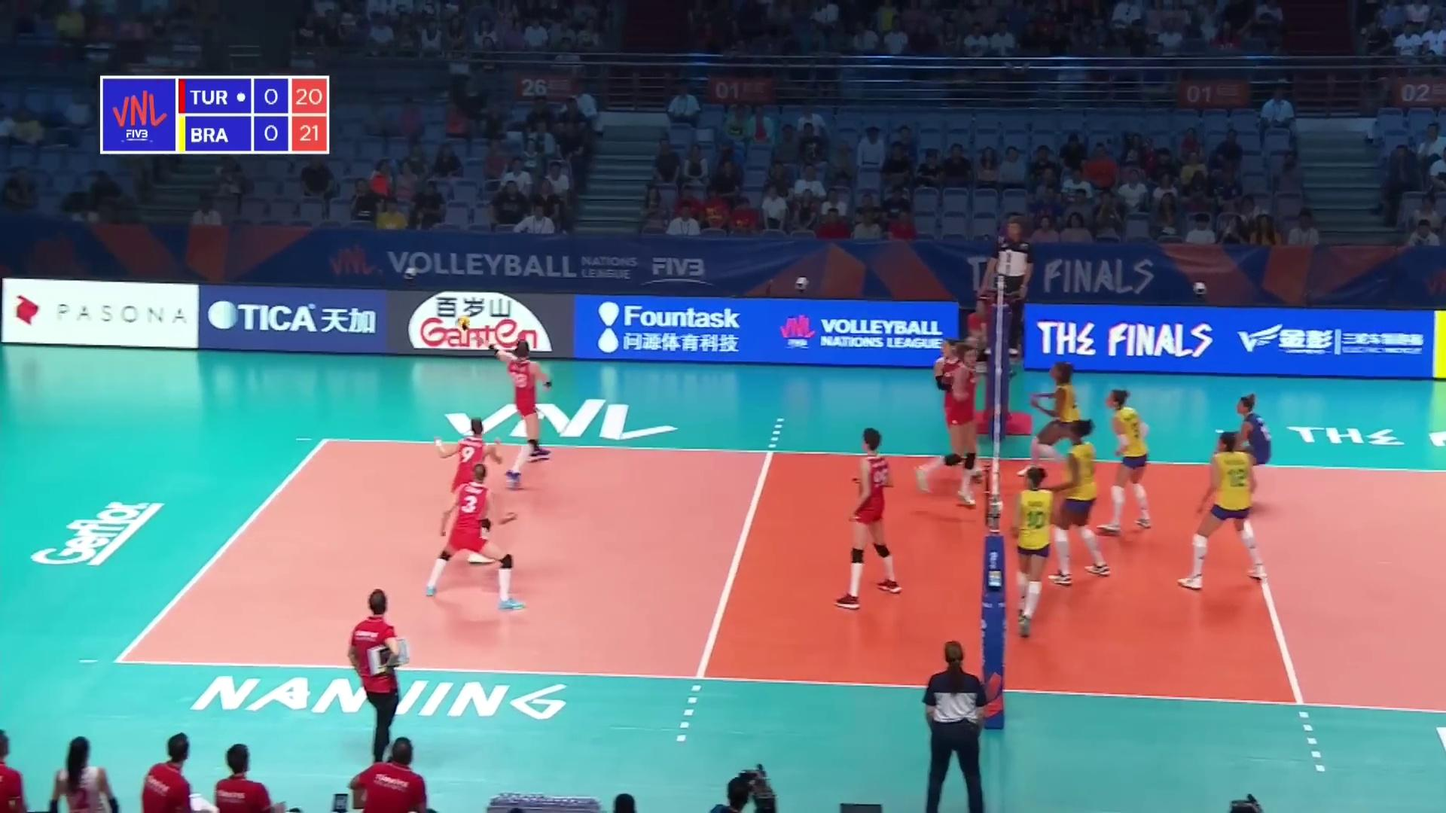player: (425, 461, 525, 612), (1038, 422, 1117, 586), (1192, 430, 1274, 585), (832, 424, 901, 602), (924, 341, 990, 514), (1009, 466, 1072, 638), (433, 417, 506, 561), (490, 339, 559, 490), (1087, 391, 1156, 533), (1026, 362, 1090, 507), (1211, 395, 1278, 520), (936, 338, 989, 489)
refree: (915, 639, 992, 813), (986, 214, 1036, 366)
